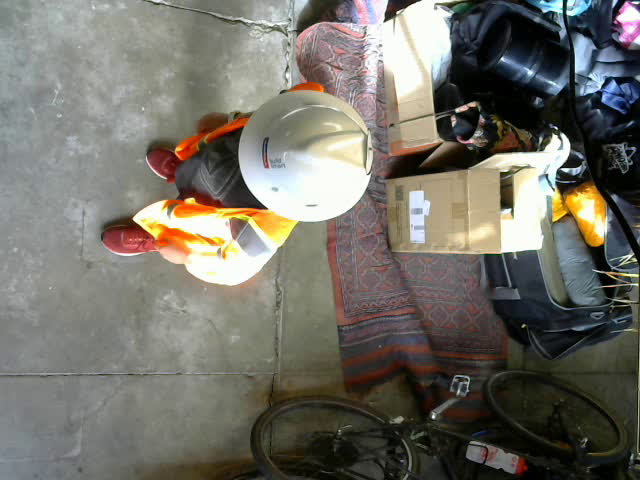one: (364, 133, 376, 174)
